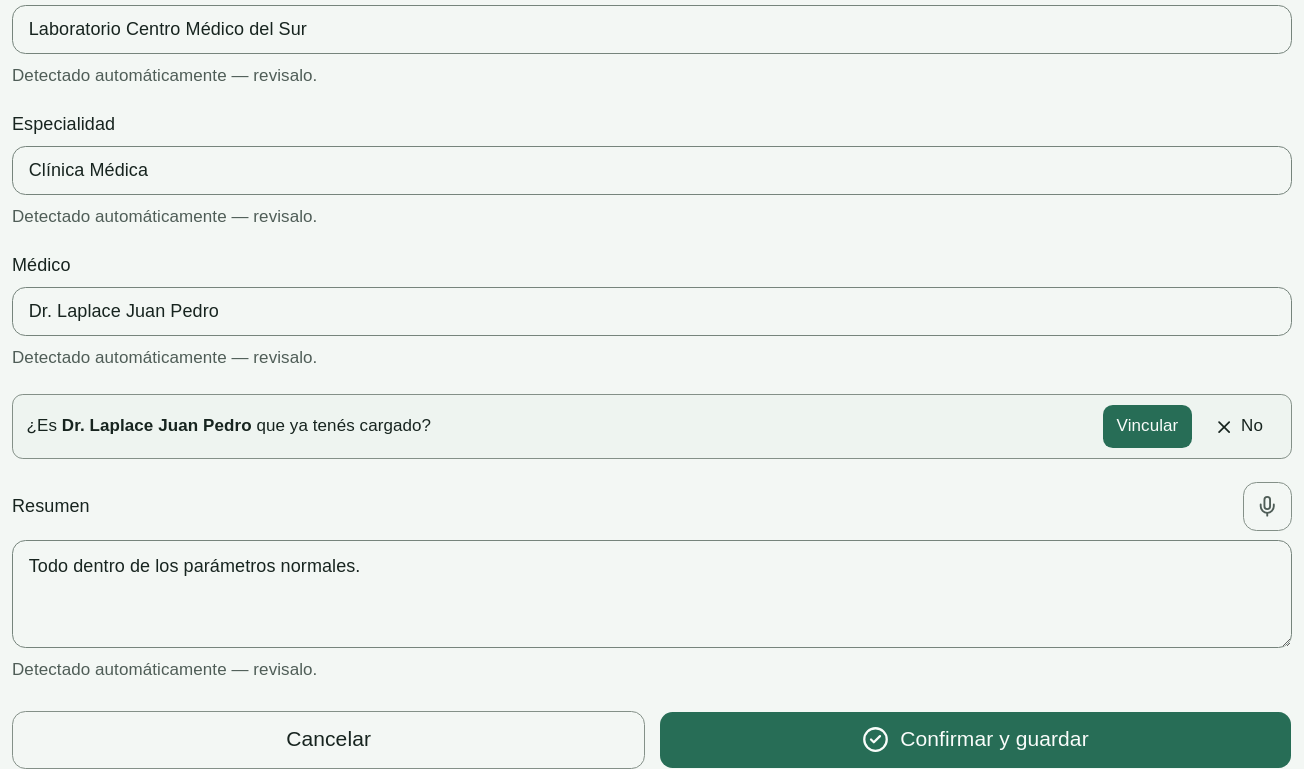
it: FormularioRevision — «Vincular» tiene que hacer algo visible › editar el campo «Médico» a mano corta el vínculo: doctor_id y doctor_name no pueden contradecirse
The width and height of the screenshot is (1304, 769).
(page scrolled)
Click the button "Vincular": (1148, 427) left=1102, top=404, right=1193, bottom=449
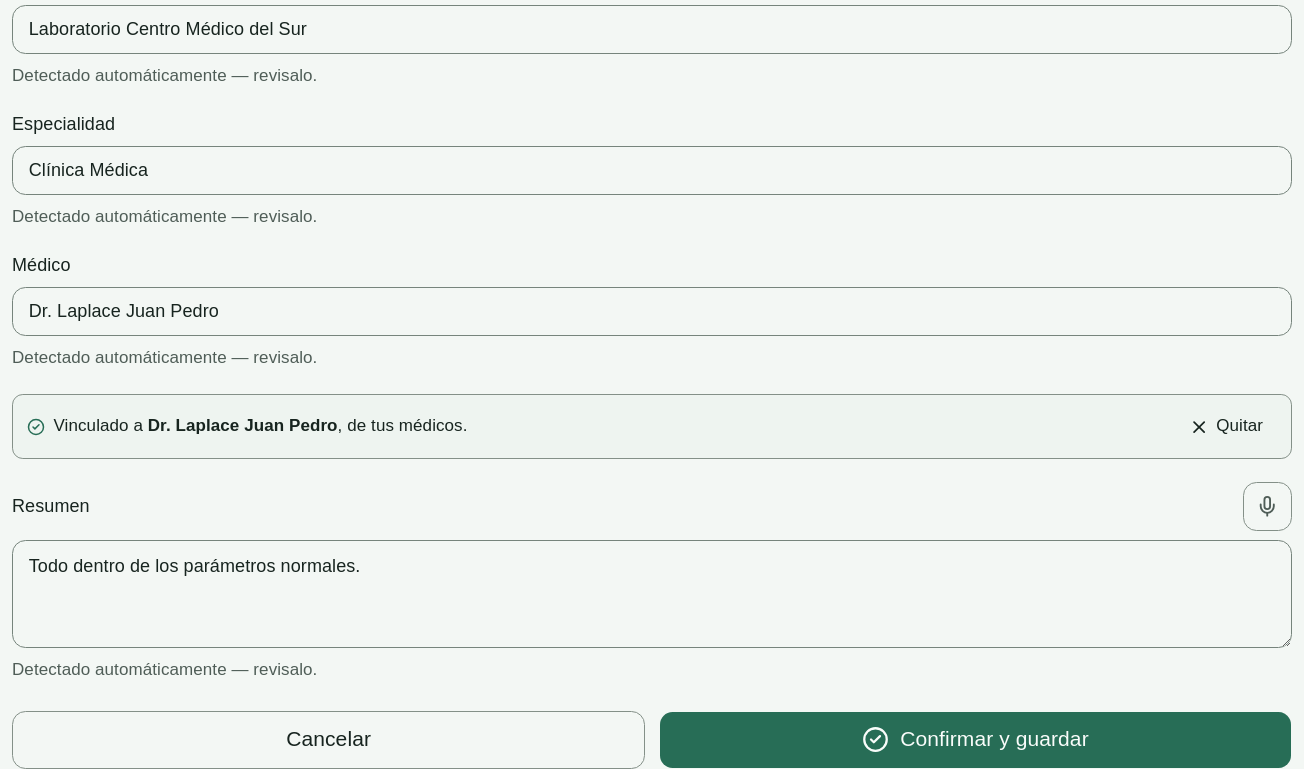
Replace the text in the field labelled "Médico" with "Dra. Otra Persona": (652, 312) left=12, top=287, right=1292, bottom=336
(page scrolled)
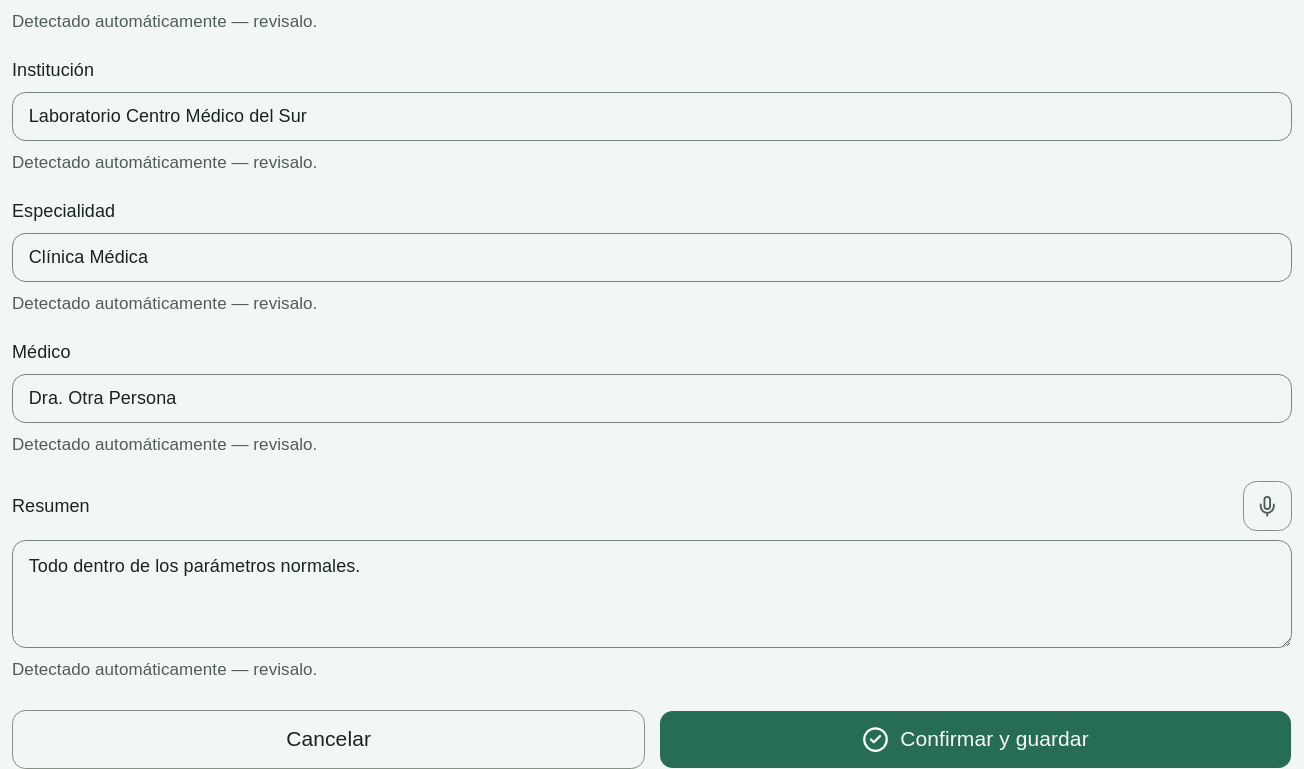
Expected: the text "Vinculado a" is gone
